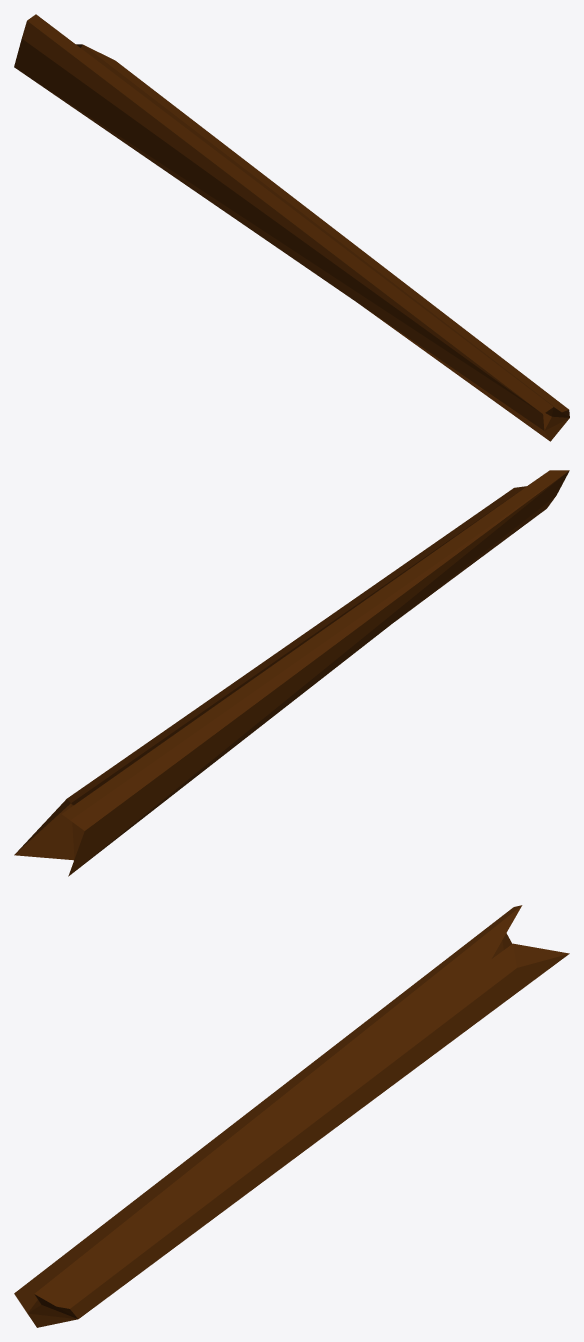
The model's file is stick.glb.
The picture shows the model from 3 angles, top to bottom: view 1: azimuth 30°, elevation 25°; view 2: azimuth 150°, elevation 25°; view 3: azimuth 330°, elevation 25°; orthographic projection. The views are drawn at different scales.
Parts seen in each view (by area): view 1: Icosphere; view 2: Icosphere; view 3: Icosphere.
Part boxes in pixels (box(x1,y1,x2,y2)): Icosphere: box(14, 14, 569, 441); Icosphere: box(14, 470, 569, 876); Icosphere: box(14, 905, 569, 1327).
Bounding box in the file's own units: 0.102 × 0.1075 × 1.55.
